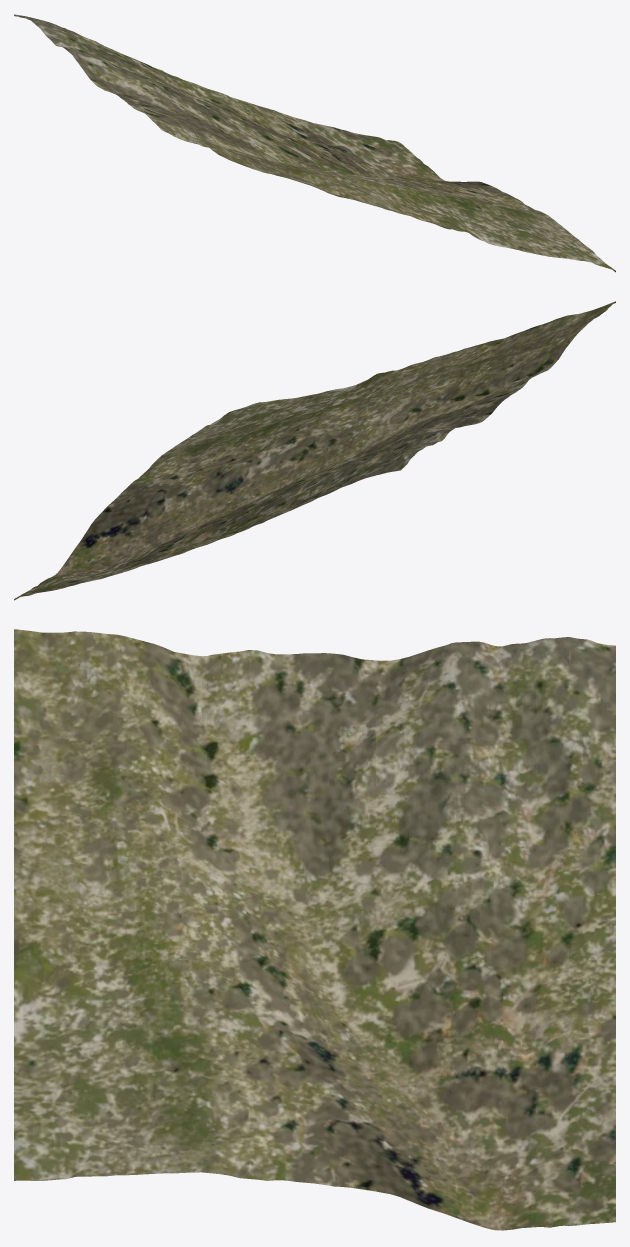
3 views of the same model, one above another, from view 1: azimuth 30°, elevation 25°; view 2: azimuth 150°, elevation 25°; view 3: azimuth 270°, elevation 25° (orthographic). The views are drawn at different scales.
Bounding box in the file's own units: 250 × 150 × 241.
Materials: 1 (1 with a texture image).
